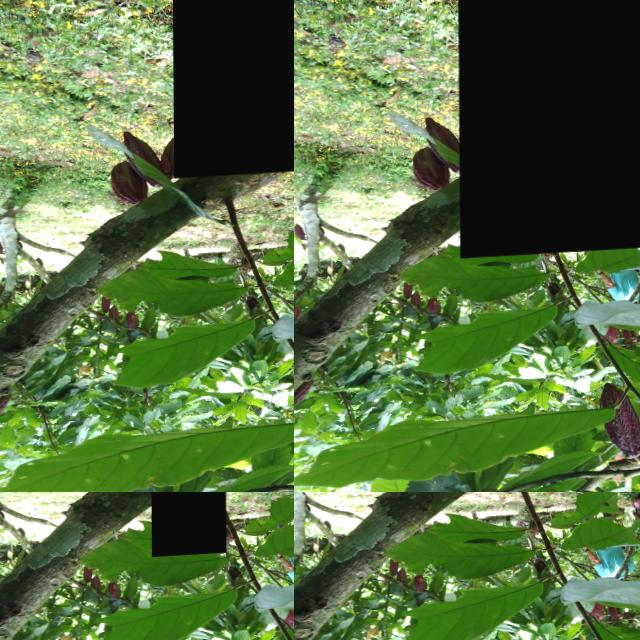Monilia: (457, 0, 640, 261), (172, 0, 294, 181)
Sana: (150, 492, 225, 560), (39, 492, 91, 538), (388, 561, 402, 578), (415, 576, 426, 594), (395, 571, 404, 586), (632, 505, 640, 516)
